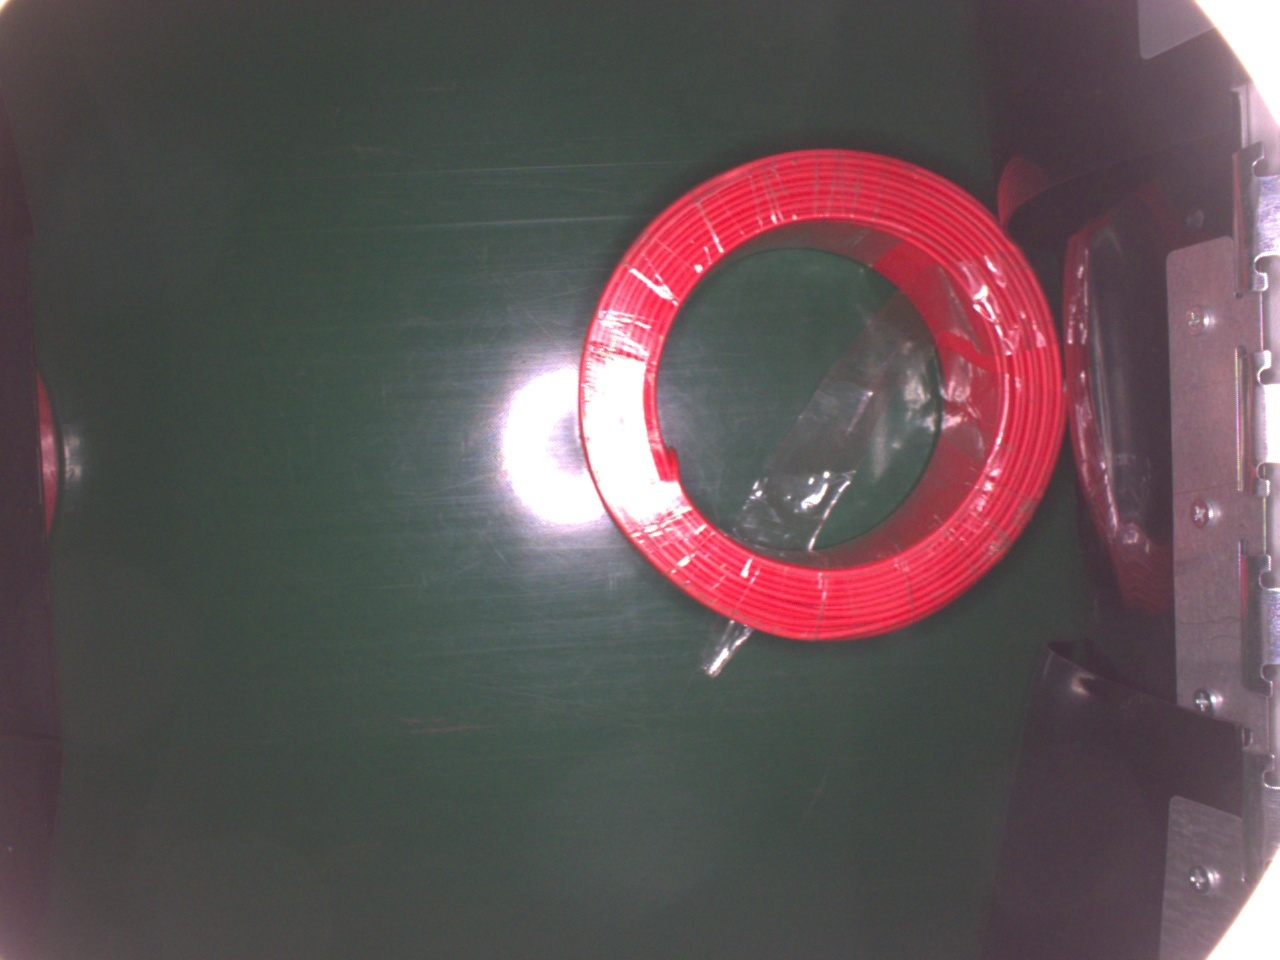red: (578, 145, 1072, 643)
